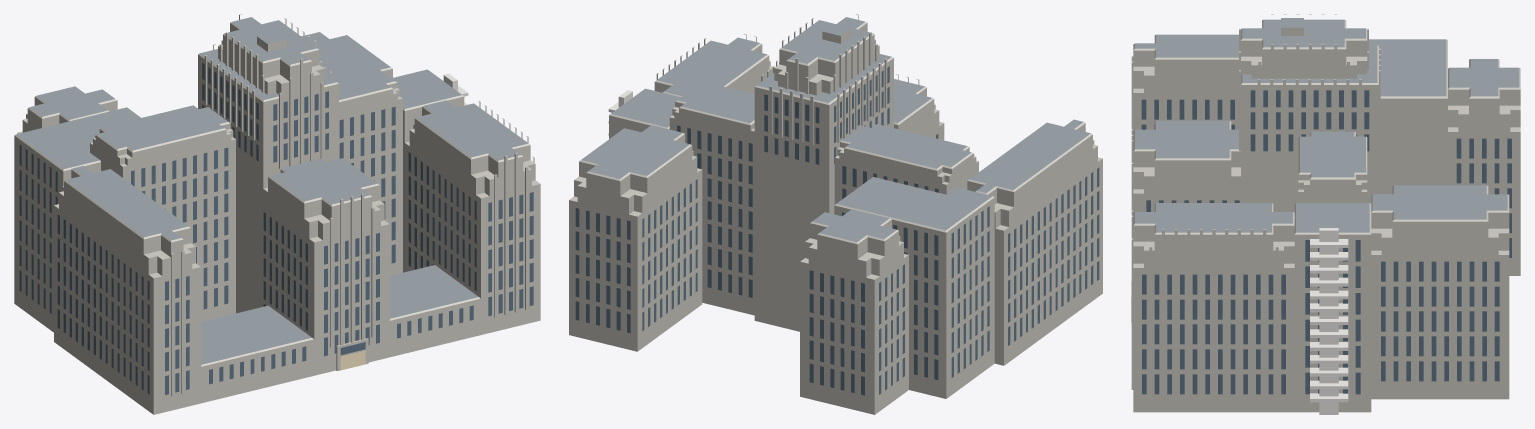
Rendered from nola-charity-hospital.glb.
3 views of the same model, side by side, from view 1: azimuth 30°, elevation 25°; view 2: azimuth 150°, elevation 25°; view 3: azimuth 270°, elevation 25° (orthographic). The views are drawn at different scales.
Visible parts, largest first — view 1: Charity Hospital; view 2: Charity Hospital; view 3: Charity Hospital.
Boxes of the visible parts, x1=… form: Charity Hospital: x1=14, y1=14, x2=540, y2=414; Charity Hospital: x1=569, y1=14, x2=1102, y2=414; Charity Hospital: x1=1131, y1=14, x2=1520, y2=414.
Size of the model in its own units: 127 by 83.4 by 102.
